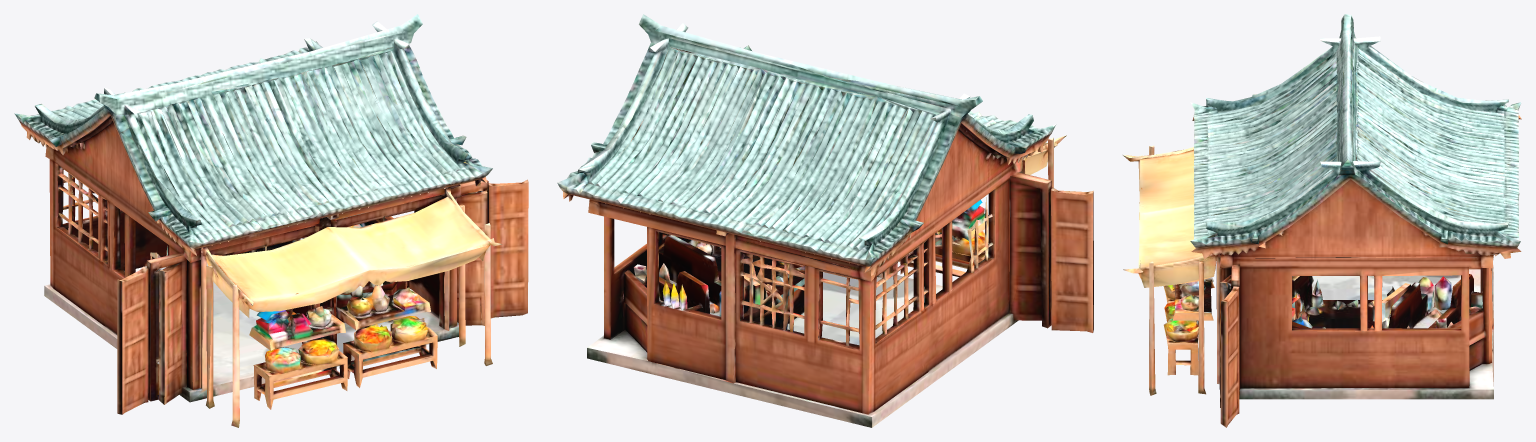
File: qm_shop_lo.glb
3 renders of one model, left to right at view 1: azimuth 30°, elevation 25°; view 2: azimuth 150°, elevation 25°; view 3: azimuth 270°, elevation 25°, orthographic. The views are drawn at different scales.
Parts seen in each view (by area): view 1: qm_shop; view 2: qm_shop; view 3: qm_shop.
Part boxes in pixels (left/top/right/bottom): qm_shop: left=14, top=14, right=528, bottom=427; qm_shop: left=557, top=14, right=1093, bottom=427; qm_shop: left=1122, top=14, right=1521, bottom=427.
Size of the model in its own units: 9.71 by 6.04 by 8.7.
Materials: 1 (1 with a texture image).
